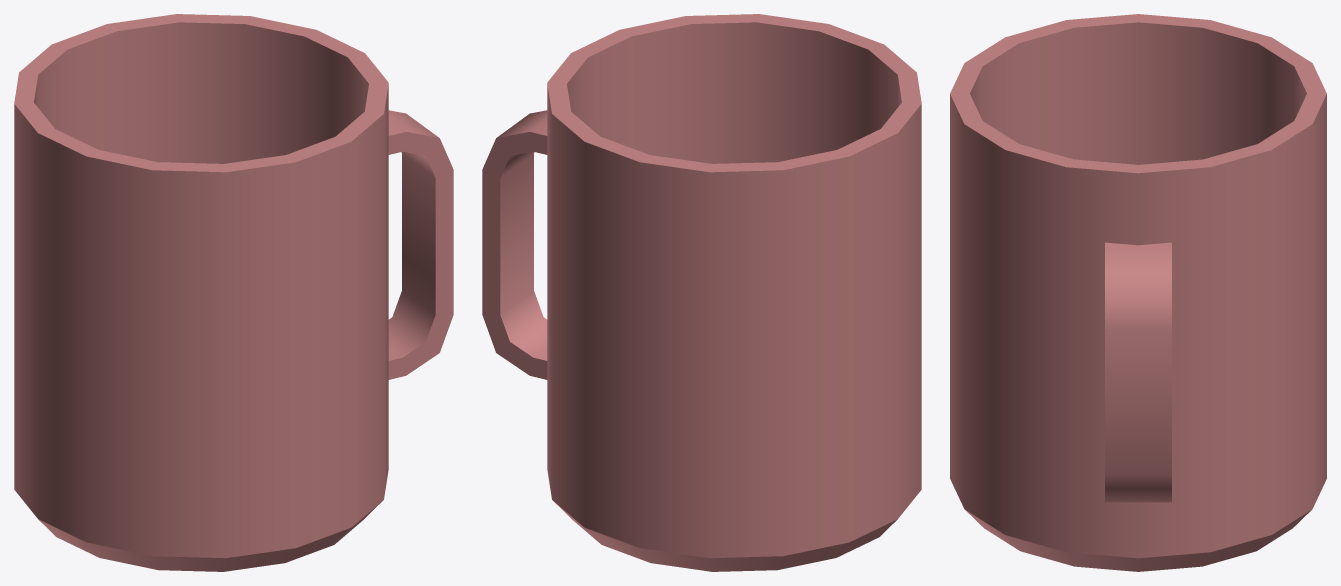
The model's file is EN_Mug.002_V01.fbx.
3 views of the same model, side by side, from view 1: azimuth 30°, elevation 25°; view 2: azimuth 150°, elevation 25°; view 3: azimuth 270°, elevation 25° (orthographic).
Visible parts, largest first — view 1: GEO_Mug.002; view 2: GEO_Mug.002; view 3: GEO_Mug.002.
Part boxes in pixels (<box>): GEO_Mug.002: <box>14,14,453,571</box>; GEO_Mug.002: <box>482,14,921,571</box>; GEO_Mug.002: <box>950,14,1326,571</box>.
Size of the model in its own units: 15.83 by 15.49 by 12.98.
Materials: 1 (1 with a texture image).
